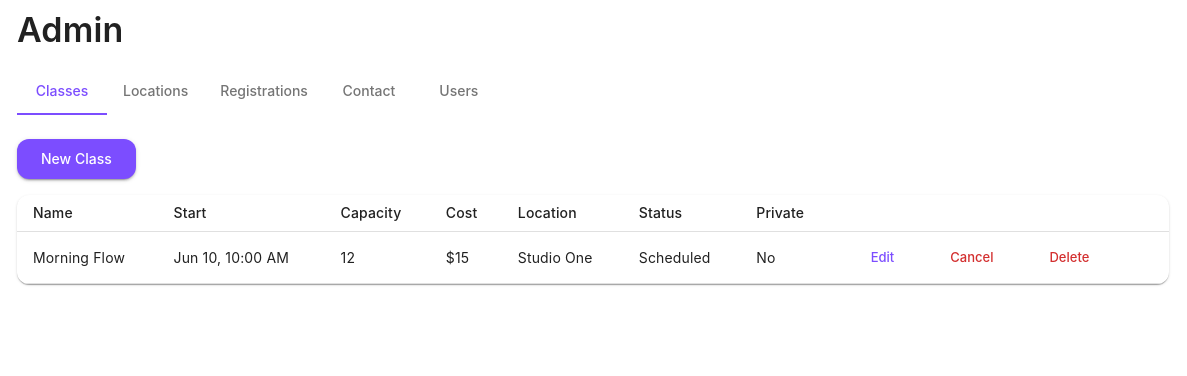
AdminDashboard › switches between every administration tab
Expected: the text "Morning Flow" is shown, [17,232,158,284]
Click the tab "Locations": (156, 91) [107,67,204,115]
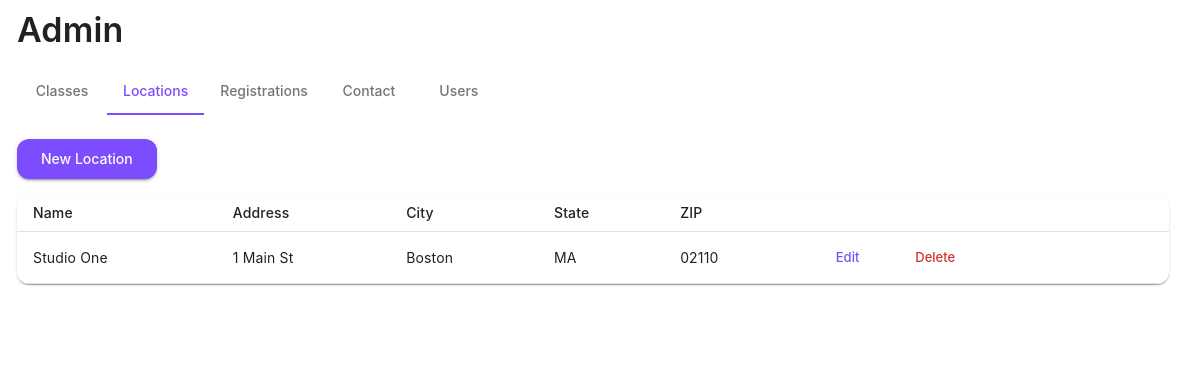
Expected: the text "Studio One" is shown, [17,232,217,284]
Click the tab "Registrations": (264, 91) [204,67,324,115]
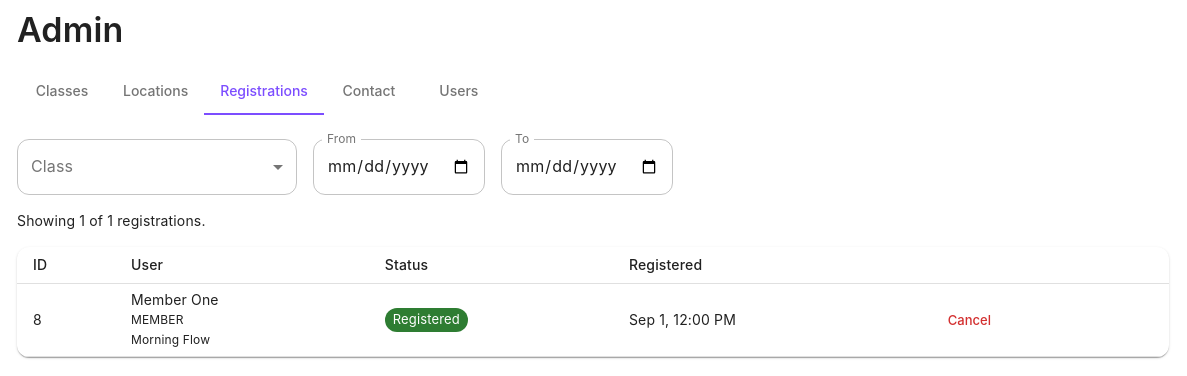
Now the text "Showing 1 of 1 registrations." is shown, box [17,212,206,229]
Click the tab "Contact": (369, 91) [324,67,414,115]
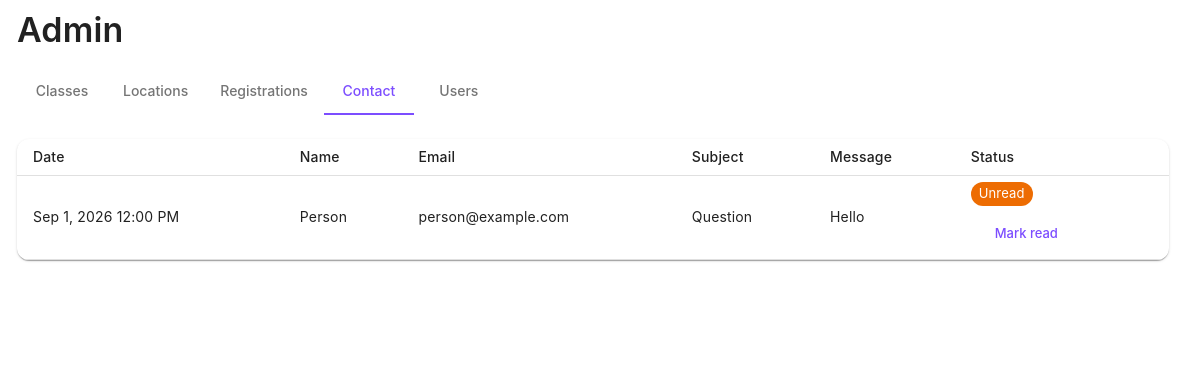
Now the text "person@example.com" is shown, box [402,176,676,259]
Click the tab "Users": (459, 91) [414,67,504,115]
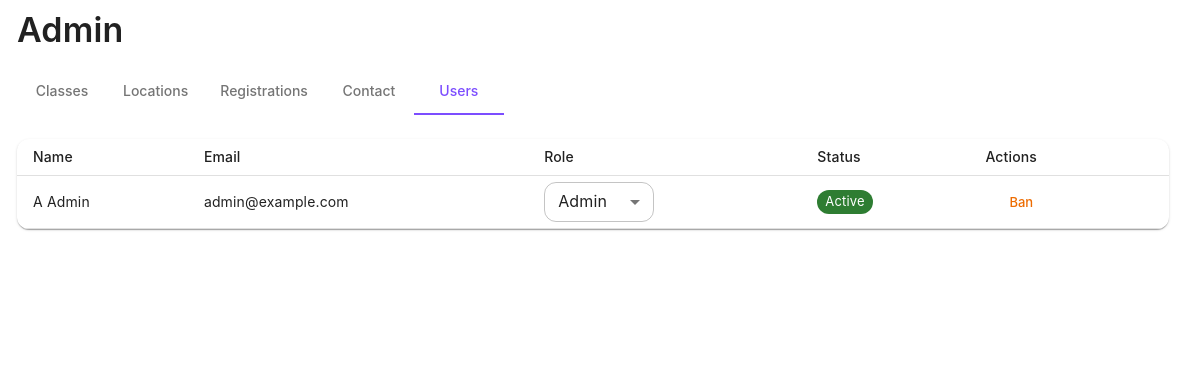
Now the text "admin@example.com" is shown, box [188,176,528,228]
